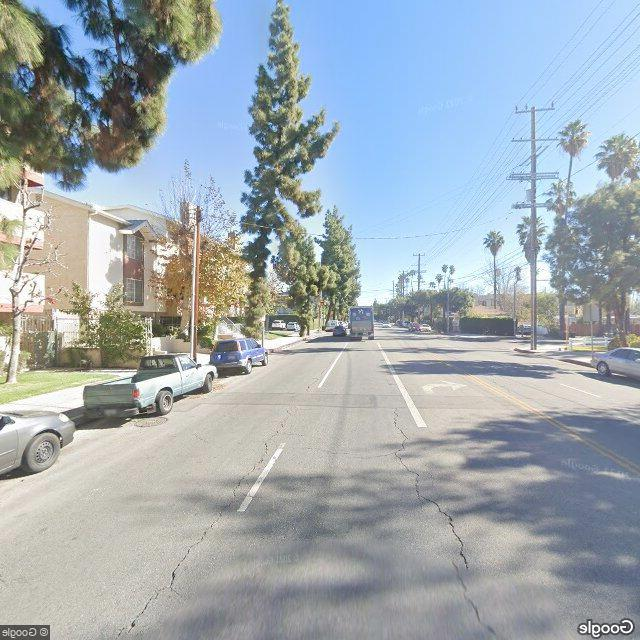pothole: (116, 408, 290, 629), (394, 405, 494, 638)
